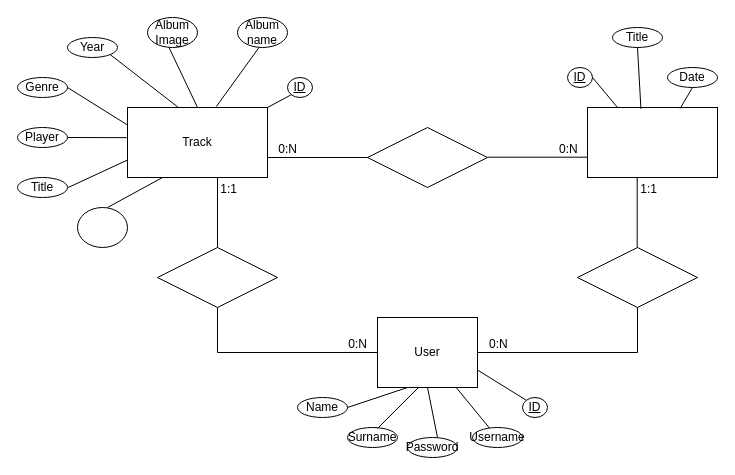
Some shapes in this 735 by 475 pixel diagram are drawn without their labels. Each missing label, with the centre of its shape:
Album composer: the point at 102,227
Creation: the point at 637,277
Inclusion: the point at 427,157
Playlist: the point at 652,142
Upload: the point at 217,277
